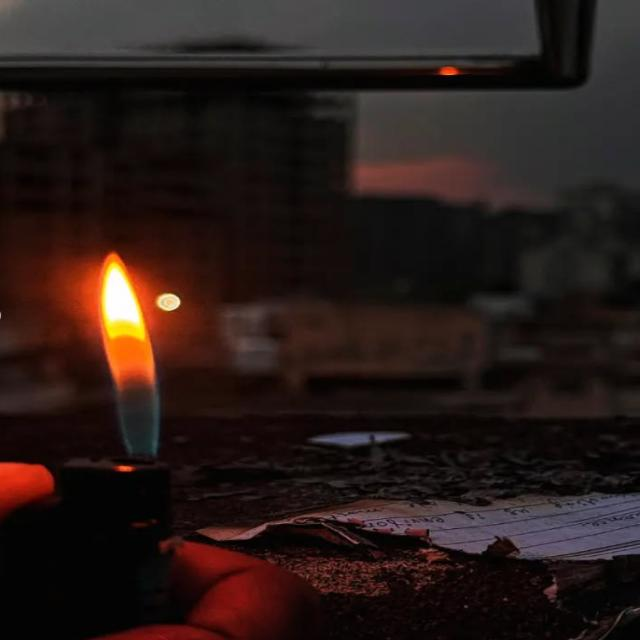fire: (97, 251, 155, 390)
